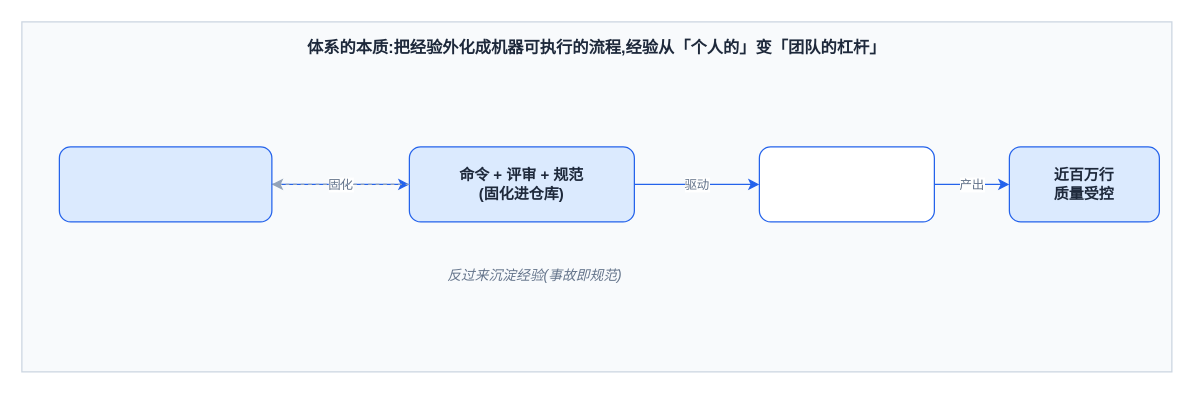
The diagram is 1194 pixels wide and 394 high, and some of its shapes have lost their labels. The box of each missing label's shape, as (x1, y1, x2, y2) in pixels:
一群 Agent: (758, 146, 934, 222)
老兵的经验 判断 / 规范 / 约束: (58, 146, 272, 222)
